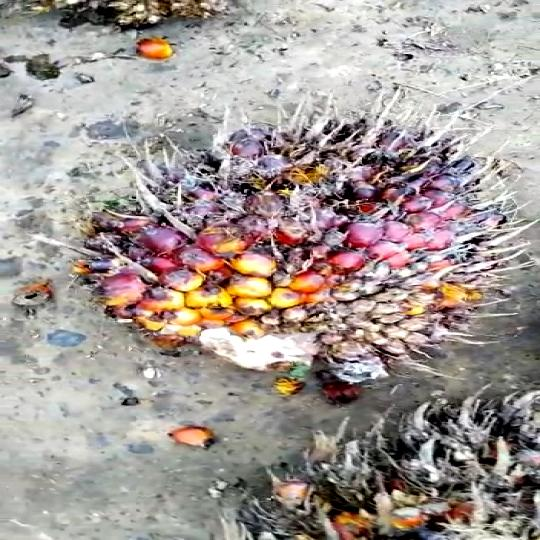masak: (74, 96, 540, 397)
